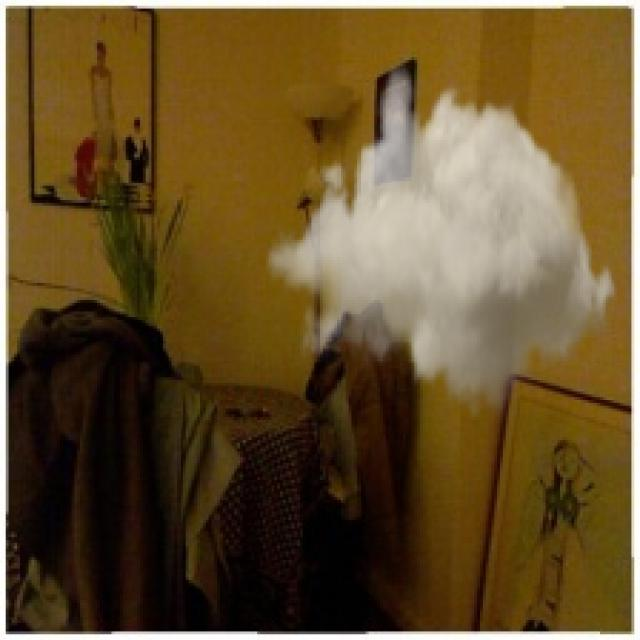smoke: (266, 60, 620, 423)
